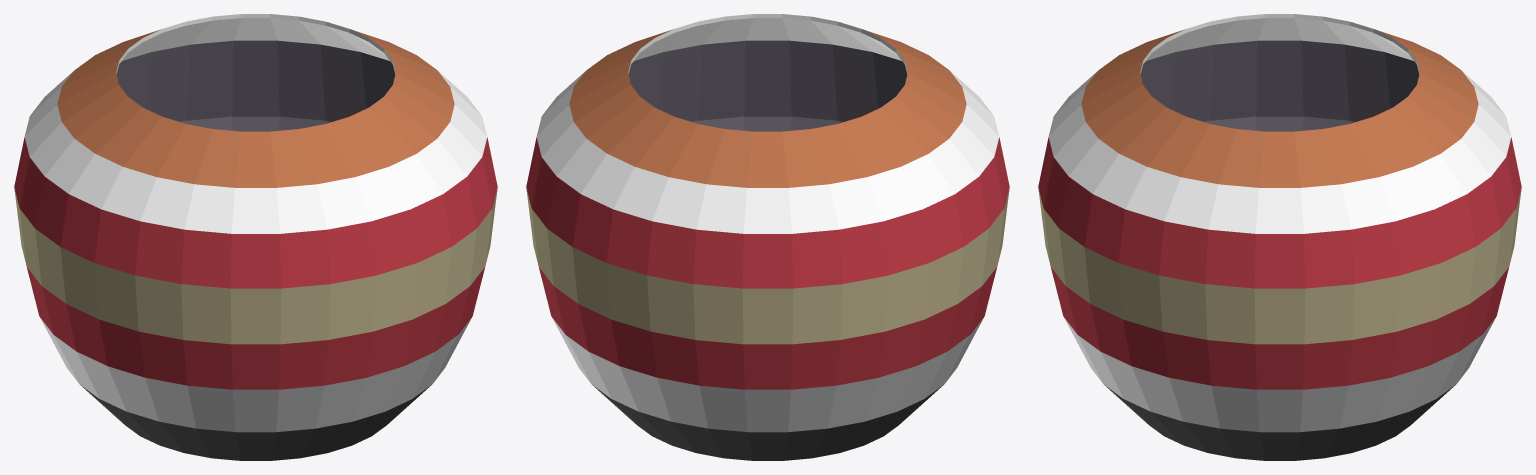
File: Res01_Bowel.fbx
The picture shows the model from 3 angles, left to right: view 1: azimuth 30°, elevation 25°; view 2: azimuth 150°, elevation 25°; view 3: azimuth 270°, elevation 25°; orthographic projection.
Parts seen in each view (by area): view 1: Res01_Bowel; view 2: Res01_Bowel; view 3: Res01_Bowel.
Part boxes in pixels (x1,y1,x2,y2): Res01_Bowel: (14, 14, 497, 460); Res01_Bowel: (526, 14, 1009, 460); Res01_Bowel: (1038, 14, 1521, 460).
Size of the model in its own units: 86.17 by 64.87 by 86.65.
